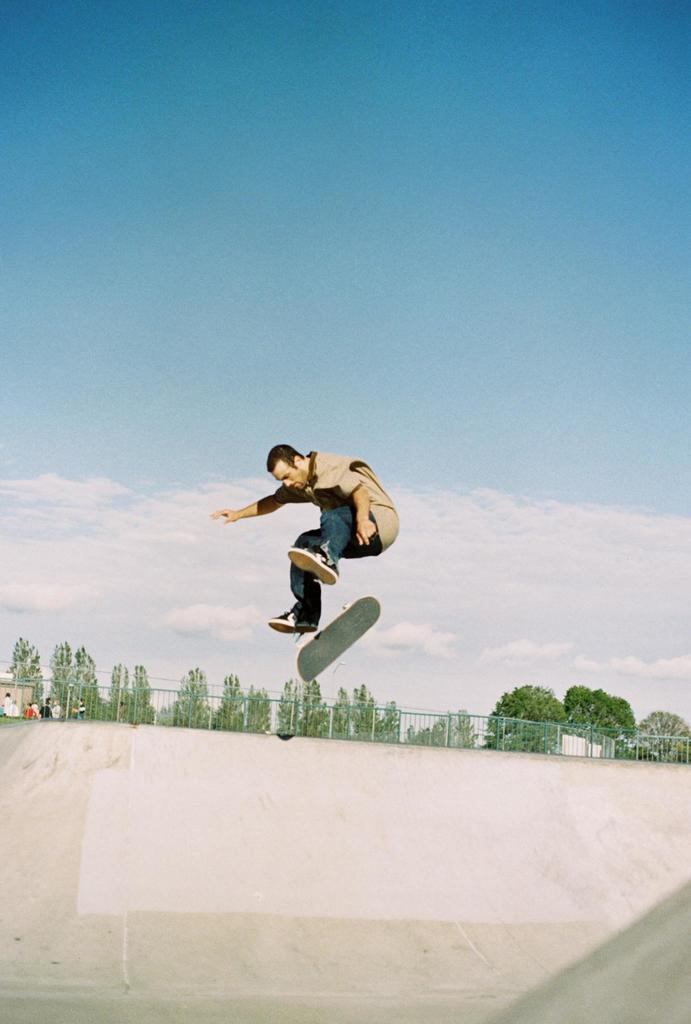Person: (210, 443, 399, 634)
